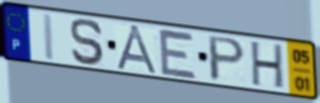A: (114, 24, 162, 77)
E: (156, 26, 199, 82)
H: (250, 40, 285, 92)
I: (41, 11, 57, 63)
P: (207, 34, 248, 83)
S: (69, 16, 107, 68)
